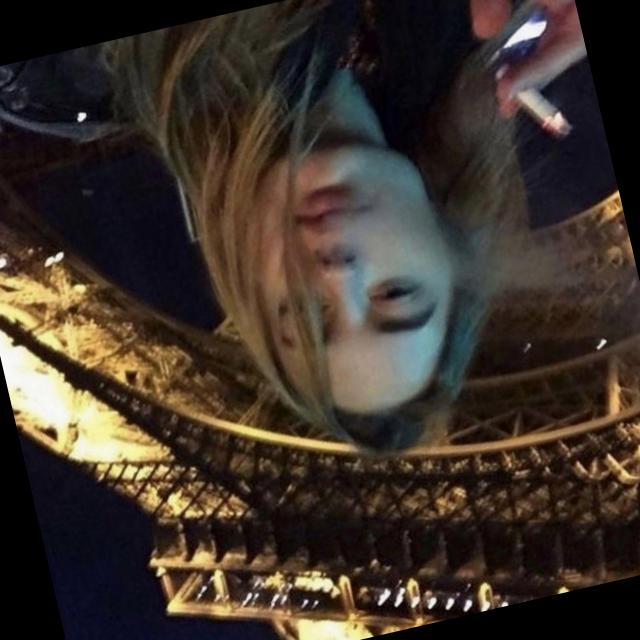smoke: (477, 30, 587, 166)
